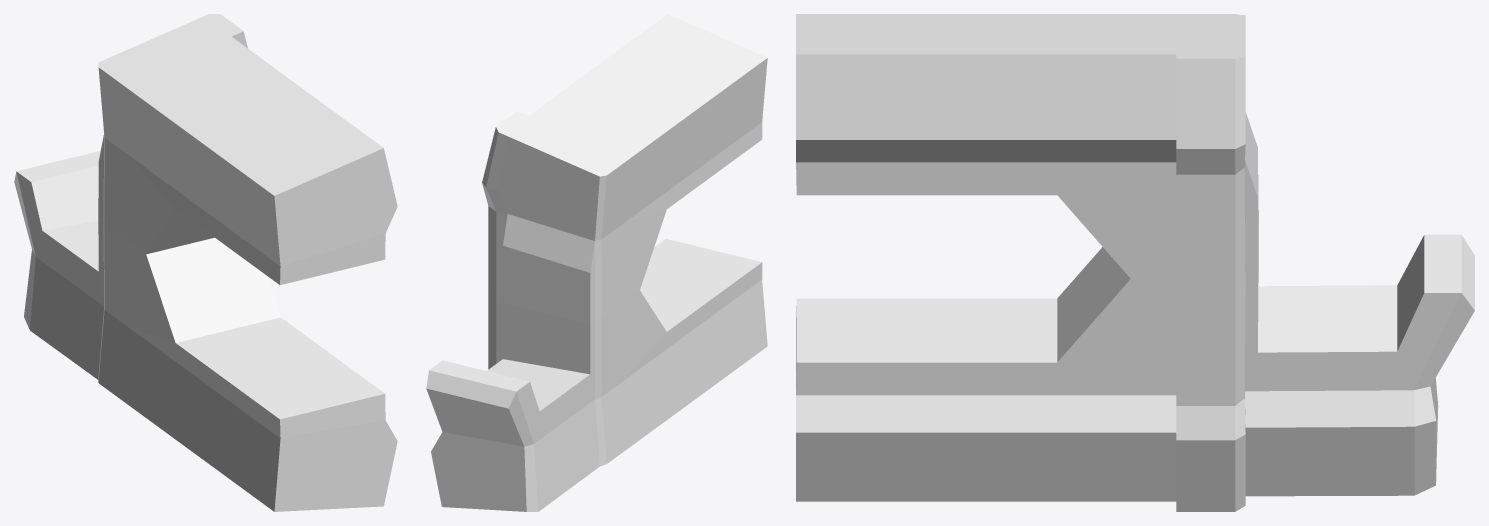
File: venice_col_4.fbx
3 renders of one model, left to right at view 1: azimuth 30°, elevation 25°; view 2: azimuth 150°, elevation 25°; view 3: azimuth 270°, elevation 25°, orthographic. The views are drawn at different scales.
Visible parts, largest first — view 1: Cube.371; view 2: Cube.371; view 3: Cube.371.
Boxes of the visible parts, box(x1,y1,x2,y2) form: Cube.371: box(14, 14, 397, 511); Cube.371: box(426, 14, 767, 511); Cube.371: box(796, 14, 1474, 511).
Size of the model in its own units: 536 by 1359 by 1845.
